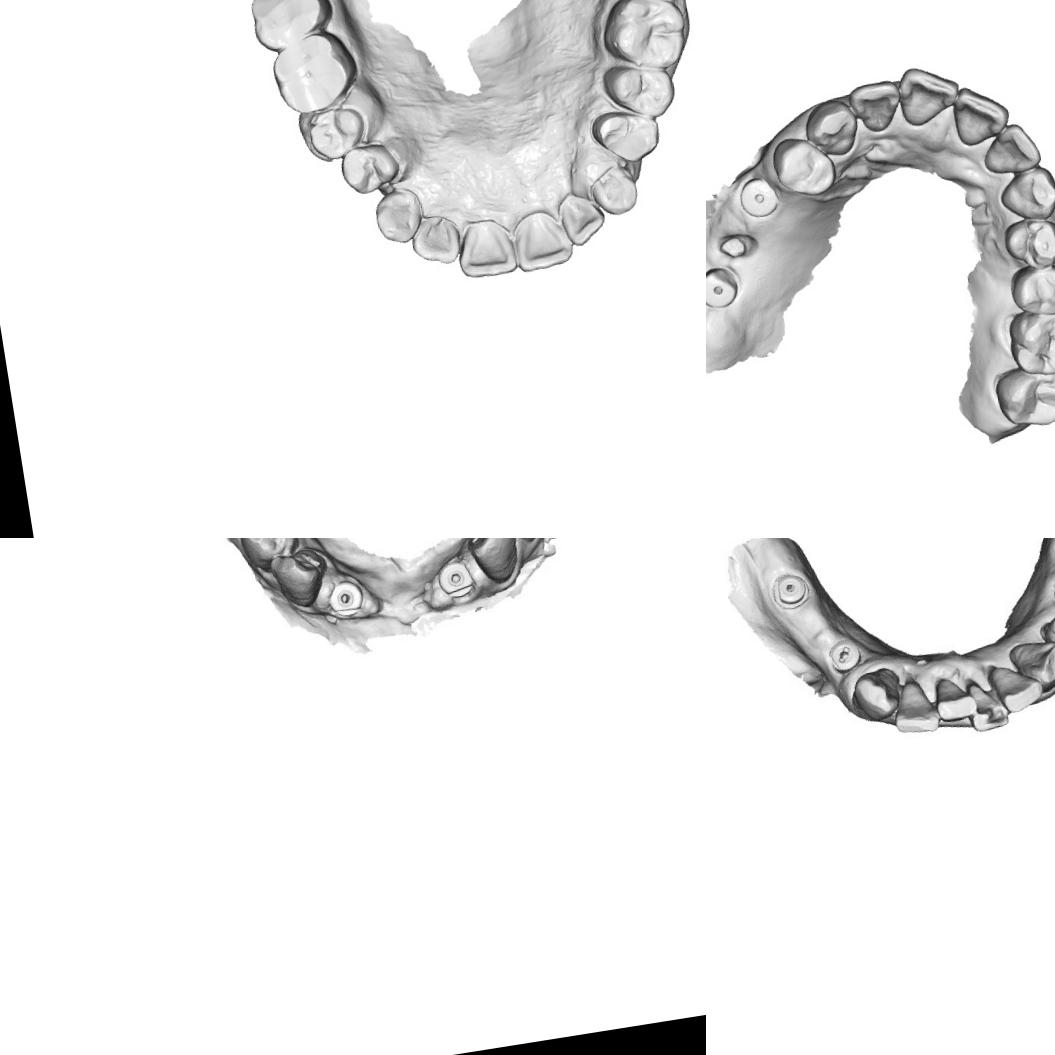canine: (800, 92, 864, 162), (368, 183, 432, 251), (993, 161, 1055, 228), (269, 543, 328, 608), (582, 162, 642, 221), (850, 664, 908, 722), (470, 538, 526, 584), (1009, 634, 1055, 690)
implant: (734, 175, 782, 225), (706, 262, 746, 314), (769, 570, 813, 614), (435, 561, 474, 601), (328, 581, 364, 617)
implant_minus: (825, 634, 866, 678)
incisor: (892, 58, 966, 130), (946, 77, 1015, 152), (509, 208, 579, 276), (452, 213, 520, 282), (976, 117, 1046, 181), (406, 212, 466, 272), (846, 76, 906, 136), (554, 186, 610, 250), (990, 660, 1046, 720), (962, 675, 1009, 739), (892, 679, 942, 736), (934, 674, 973, 728)
molar: (264, 30, 364, 121), (595, 0, 697, 80), (989, 359, 1055, 435), (244, 0, 335, 52), (1002, 302, 1055, 385)
premolar: (596, 54, 680, 126), (588, 102, 666, 170), (768, 130, 841, 201), (334, 137, 406, 200), (302, 102, 372, 166), (998, 212, 1055, 273), (1005, 261, 1055, 320), (233, 538, 301, 569)
